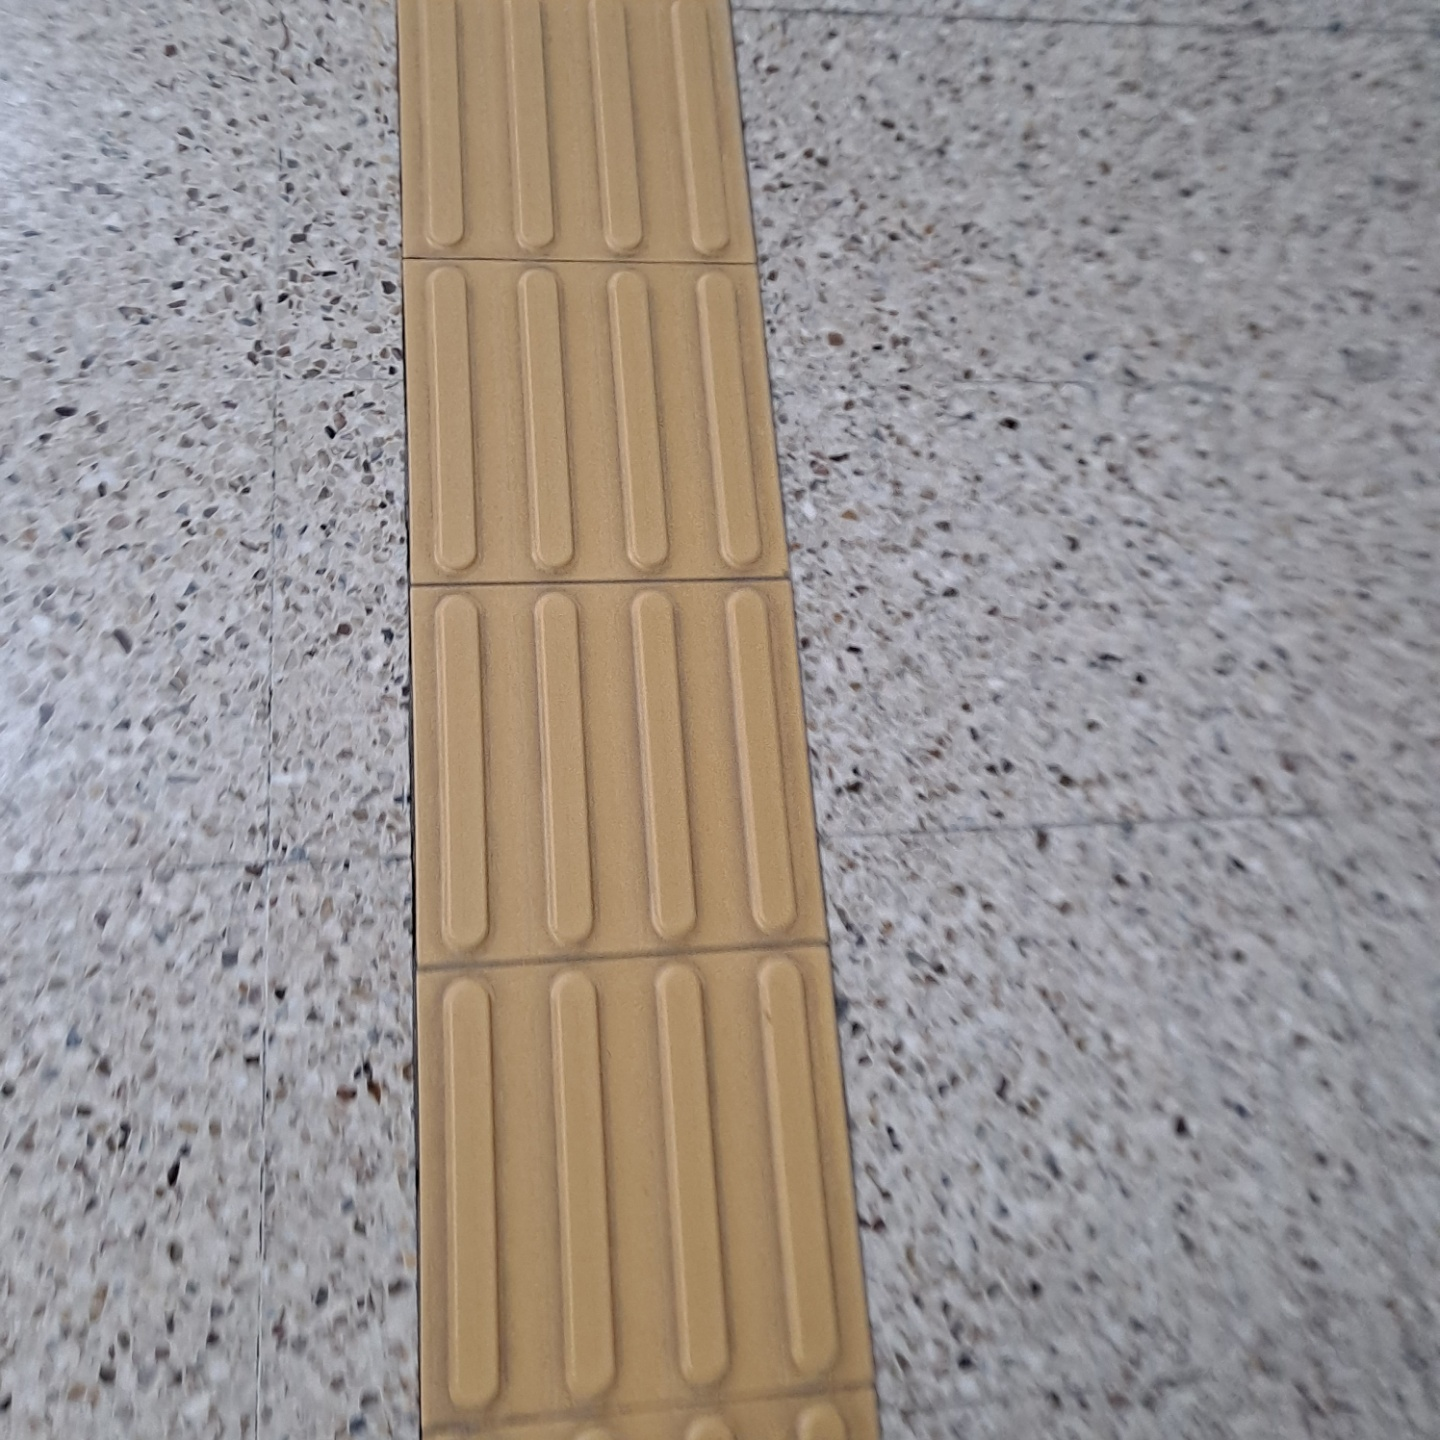guideBlock: (421, 980, 872, 1406), (434, 601, 800, 961), (406, 252, 806, 567), (397, 15, 740, 252)
